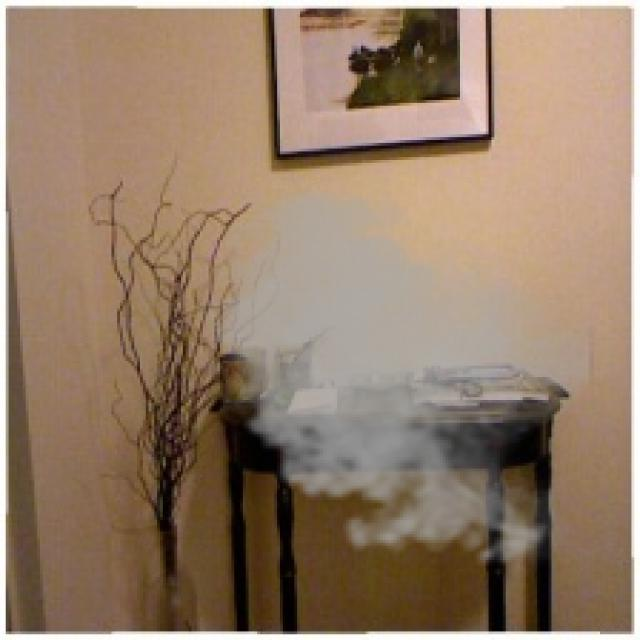smoke: (192, 180, 594, 577)
